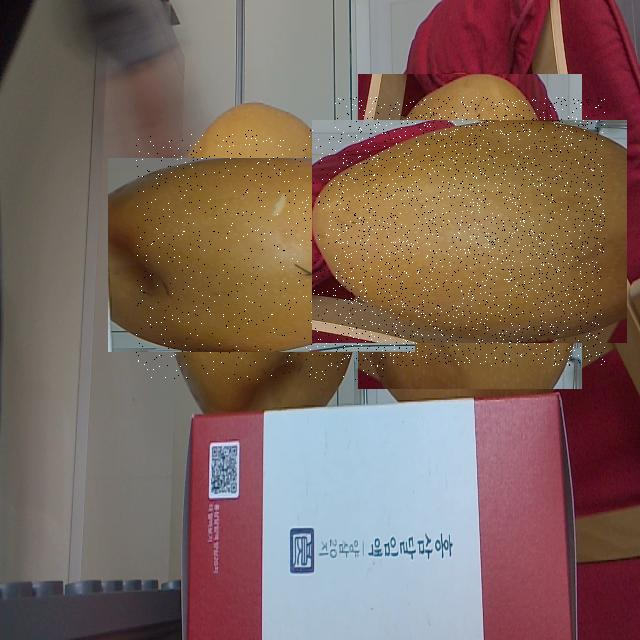pear: (335, 97, 605, 366), (136, 130, 387, 380)
